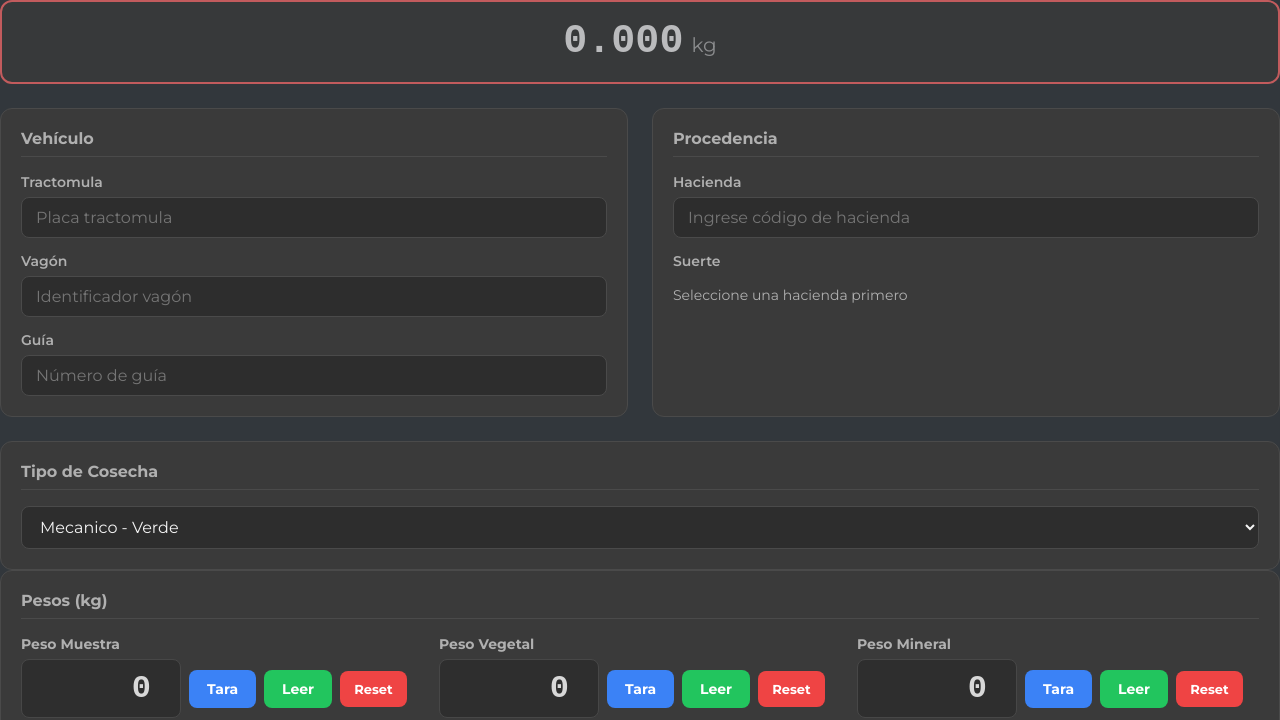
Test: KioskForm — Feature 44: rs232_resend (R1, R2, R4) › boton Reenviar Datos aparece tras confirmar pesaje
Fill text fields to make form valid
Type "ABC-123" into the field with placeholder "Placa tractomula" at (314,218), box [21,197,607,238]
Type "V5" into the field with placeholder "Identificador vagón" at (314,296), box [21,276,607,317]
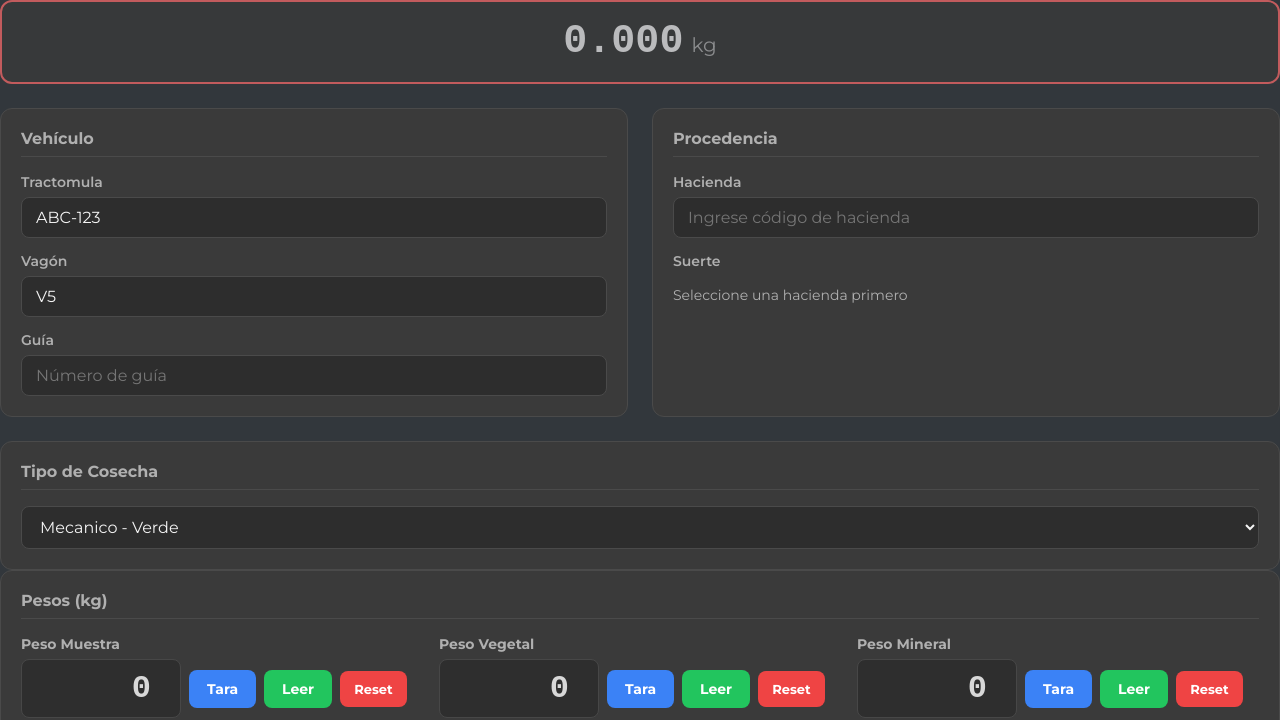
Type "G-789" into the field with placeholder "Número de guía" at (314,376), box [21,355,607,396]
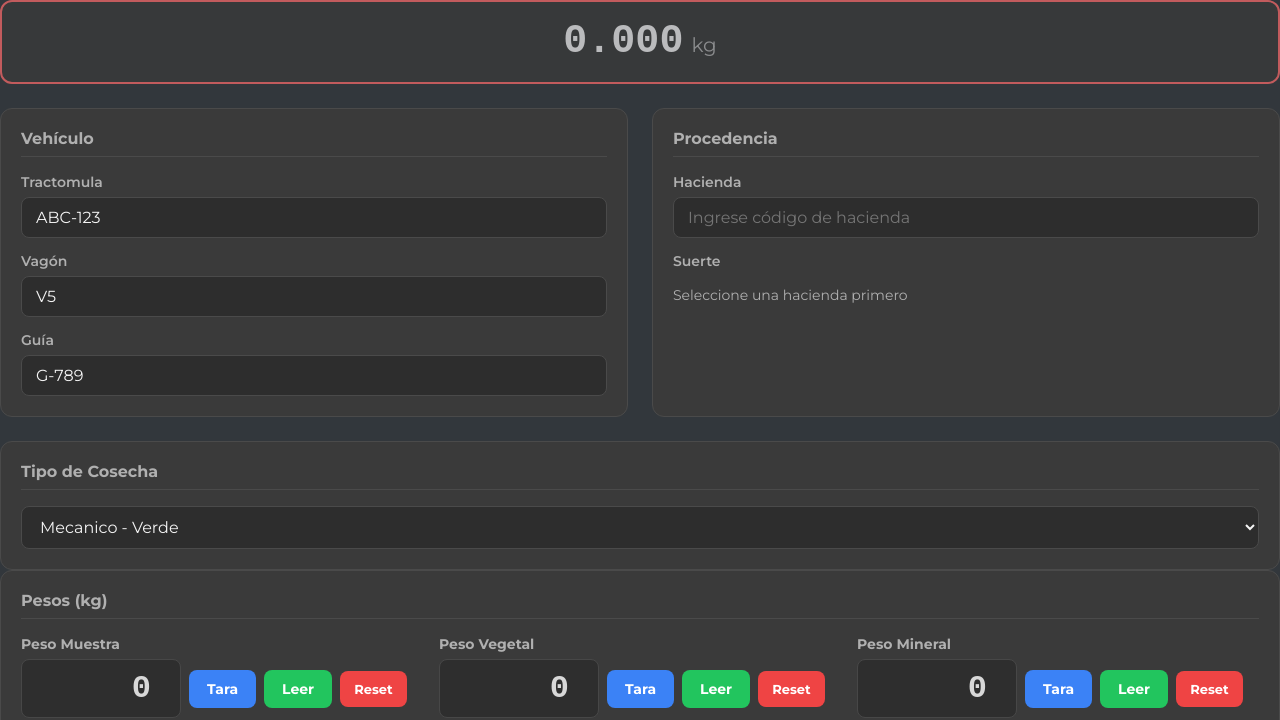
Enter hacienda code via HaciendaCodeInput
Type "H001" into the field with placeholder "Ingrese código de hacienda" at (966,218), box [673,197,1259,238]
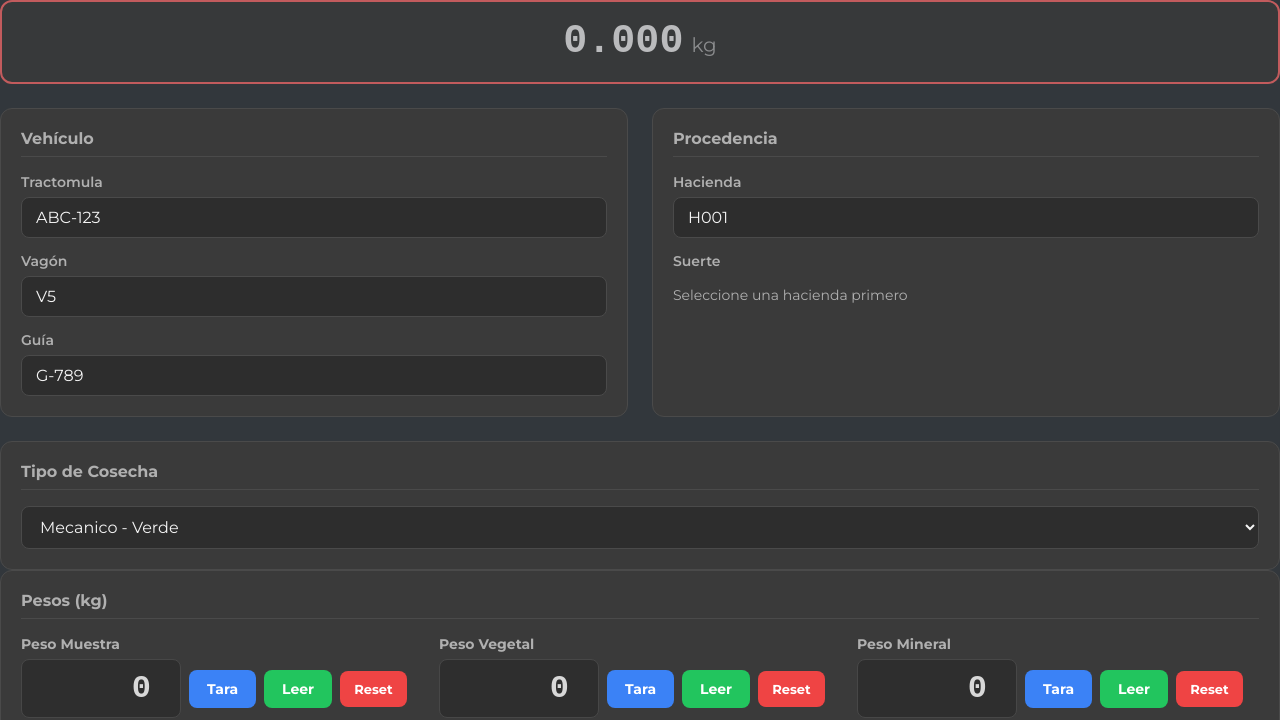
Press Enter in the field with placeholder "Ingrese código de hacienda", box [673,197,1259,238]
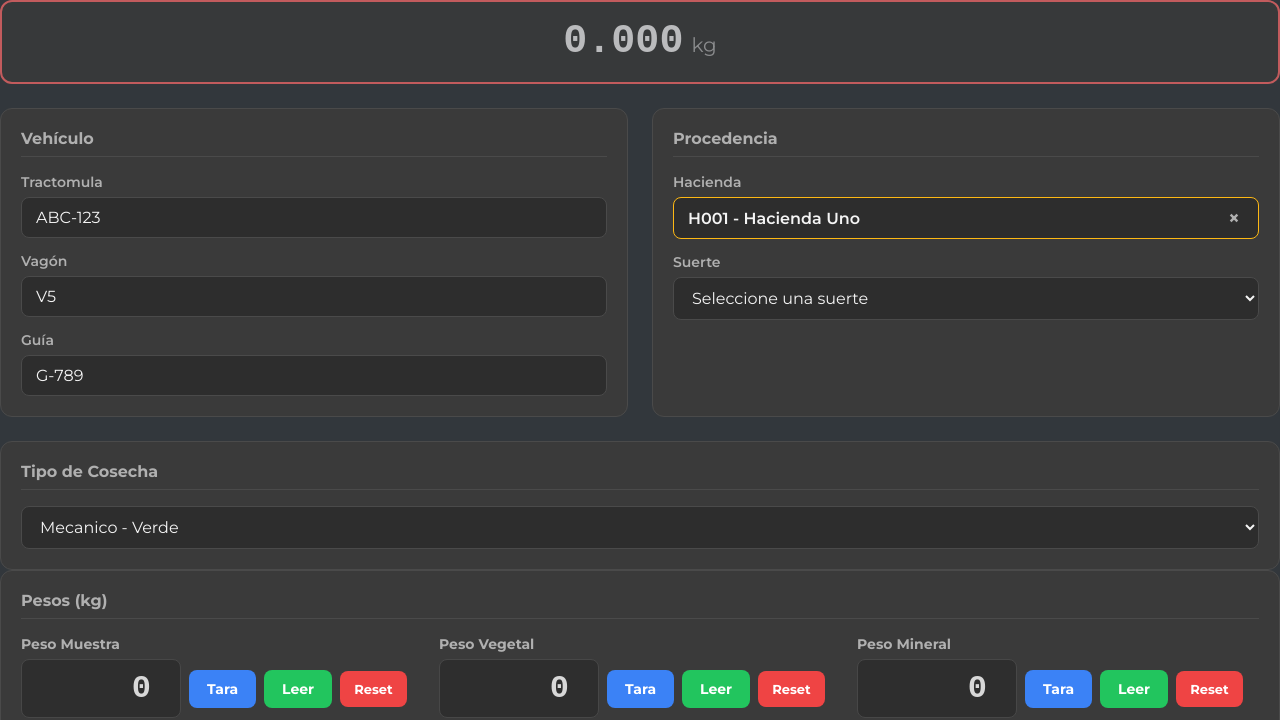
Expected: the text "H001 - Hacienda Uno" is shown, [688,208,860,228]
Expected: the dropdown with id "suerte" is shown
Select "S001" in the dropdown with id "suerte" at (966,298), box [673,277,1259,320]
(page scrolled)
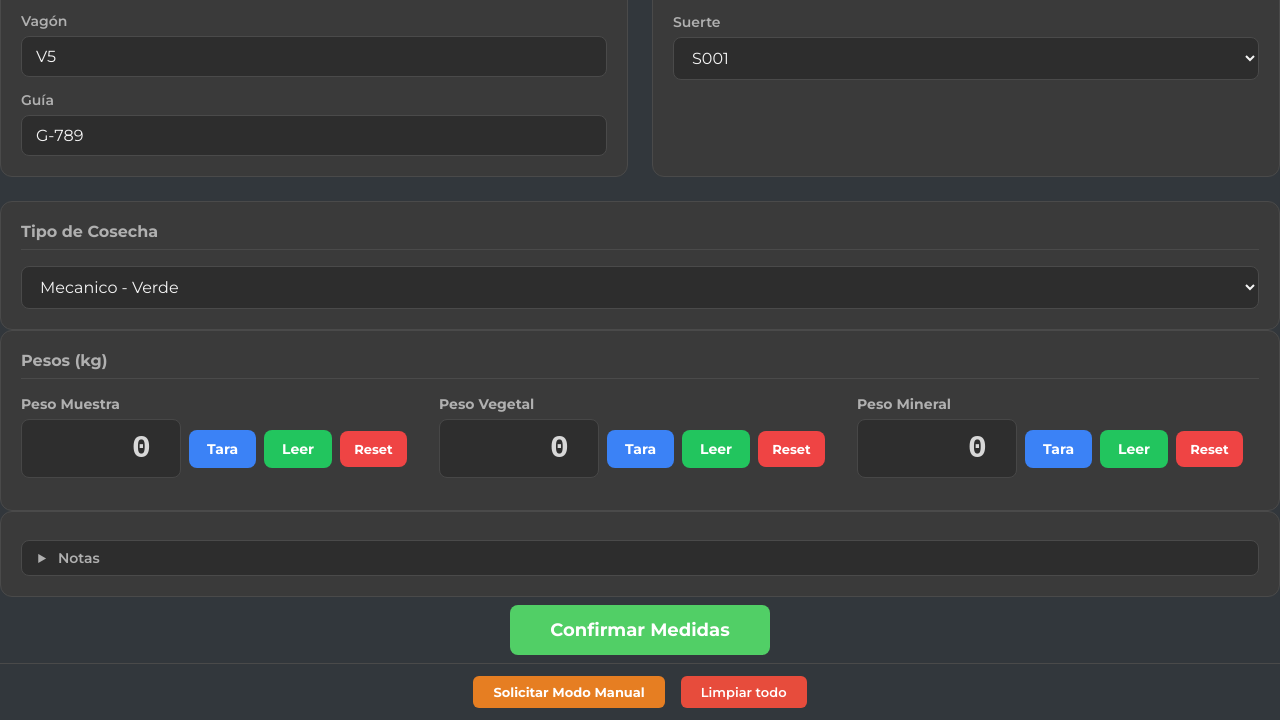
Expected: the button "Confirmar Medidas" is enabled
Click the button "Confirmar Medidas" at (640,630), box [510,605,770,655]
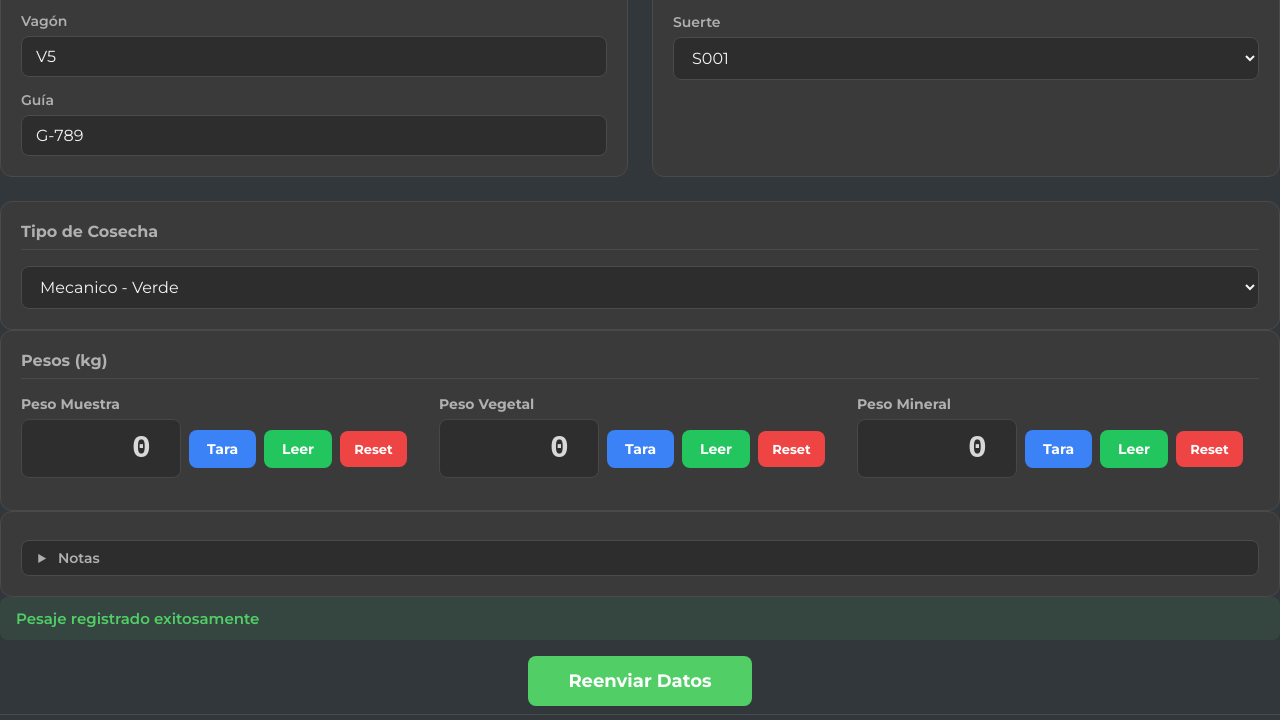
Expected: the button "Reenviar Datos" is shown, [528,656,752,706]
